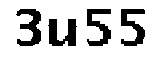3: (11, 6, 46, 49)
5: (83, 4, 114, 51), (119, 7, 150, 50)
u: (47, 15, 82, 50)
